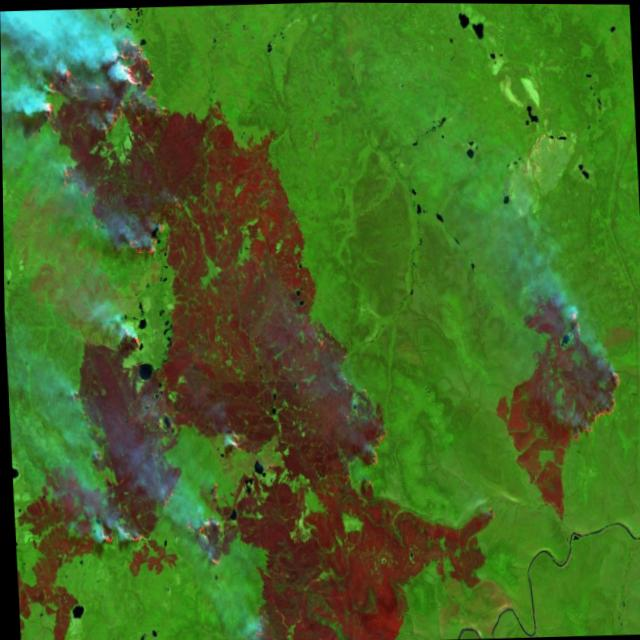fire: (34, 35, 191, 271), (91, 457, 234, 573), (557, 310, 633, 450), (117, 309, 150, 362)
